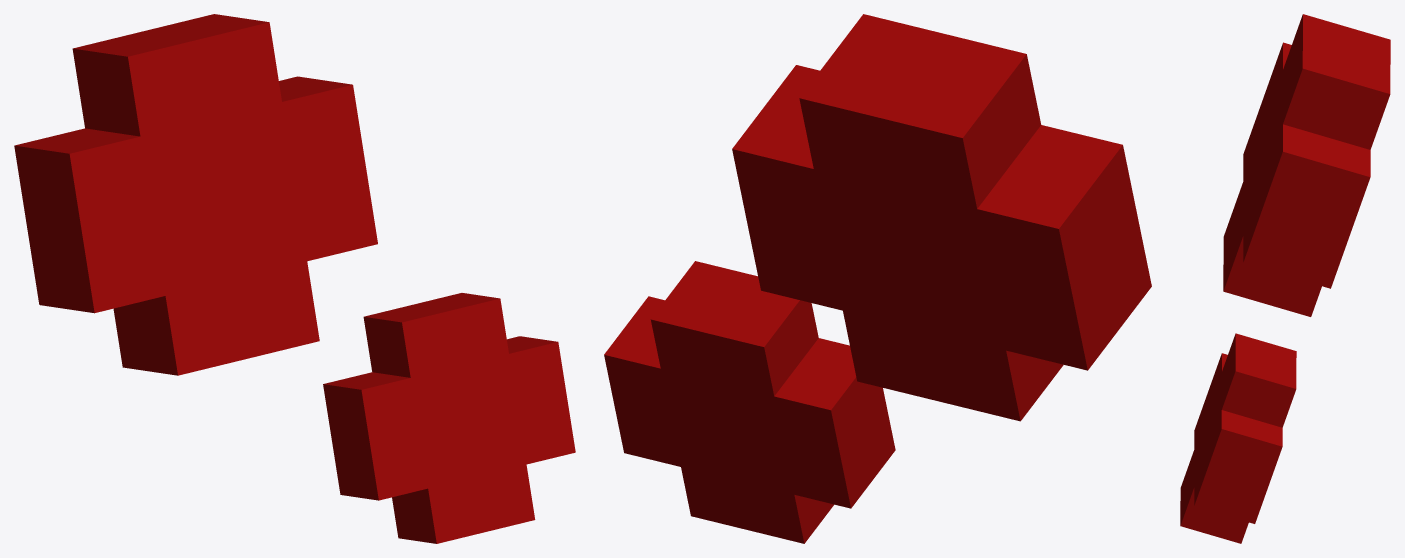
Rendered from power_up_vida.glb.
The picture shows the model from 3 angles, left to right: view 1: azimuth 30°, elevation 25°; view 2: azimuth 150°, elevation 25°; view 3: azimuth 270°, elevation 25°; orthographic projection. The views are drawn at different scales.
Visible parts, largest first — view 1: node_id28; view 2: node_id28; view 3: node_id28.
Part boxes in pixels (bbox=[...]): node_id28: bbox=[14, 14, 575, 543]; node_id28: bbox=[604, 14, 1151, 543]; node_id28: bbox=[1180, 14, 1390, 543].
Size of the model in its own units: 0.0738 by 0.0798 by 0.0377.
Materials: 1 (1 with a texture image).
